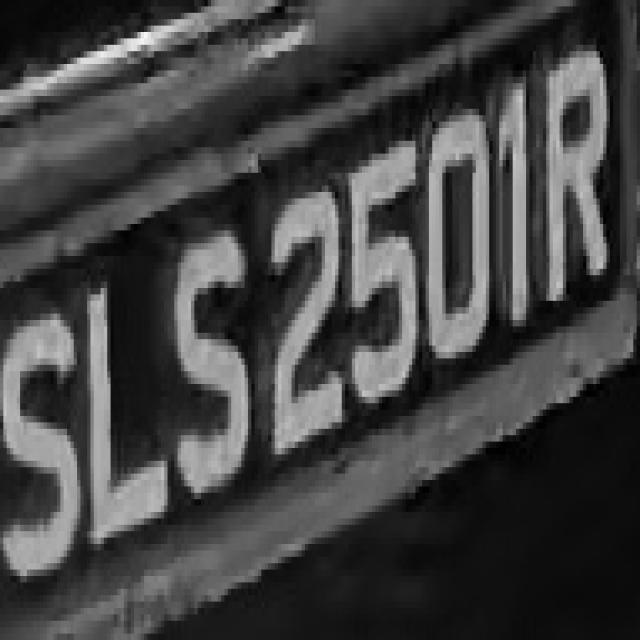0: (416, 90, 500, 378)
1: (502, 45, 540, 365)
2: (262, 173, 356, 486)
5: (342, 141, 422, 429)
L: (80, 256, 181, 544)
R: (526, 38, 617, 320)
S: (154, 224, 255, 512), (7, 307, 77, 608)
